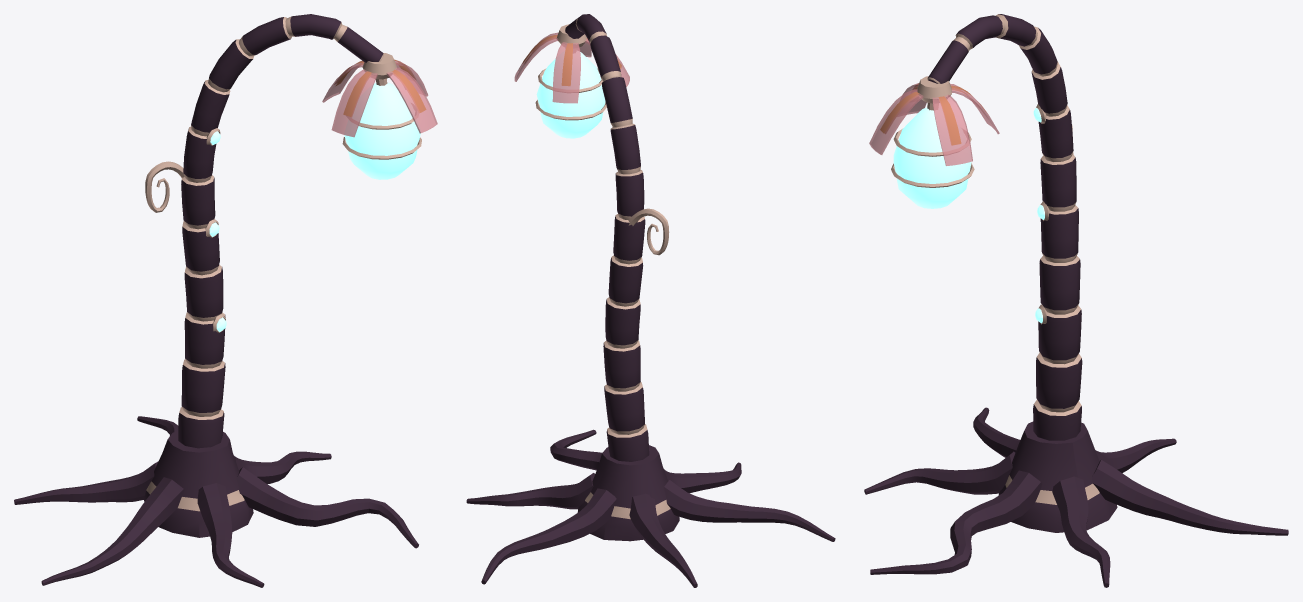
File: deco_bio_lamp.fbx
The picture shows the model from 3 angles, left to right: view 1: azimuth 30°, elevation 25°; view 2: azimuth 150°, elevation 25°; view 3: azimuth 270°, elevation 25°; orthographic projection. The views are drawn at different scales.
Visible parts, largest first — view 1: BioLamp_Roots, BioLamp_Stalk, BioLamp_Bulb, BioLamp_Hood; view 2: BioLamp_Roots, BioLamp_Stalk, BioLamp_Bulb, BioLamp_Hood; view 3: BioLamp_Roots, BioLamp_Stalk, BioLamp_Bulb, BioLamp_Hood.
Part boxes in pixels (x1,y1,x2,y2): BioLamp_Roots: (14,416,418,587); BioLamp_Stalk: (145,14,383,448); BioLamp_Bulb: (342,78,421,179); BioLamp_Hood: (322,53,437,137); BioLamp_Roots: (466,429,835,587); BioLamp_Stalk: (565,14,669,461); BioLamp_Bulb: (535,49,606,138); BioLamp_Hood: (514,24,629,103); BioLamp_Roots: (864,407,1288,587); BioLamp_Stalk: (927,14,1082,440); BioLamp_Bulb: (891,103,974,208); BioLamp_Hood: (869,76,999,165).
Size of the model in its own units: 240 by 317 by 230.
